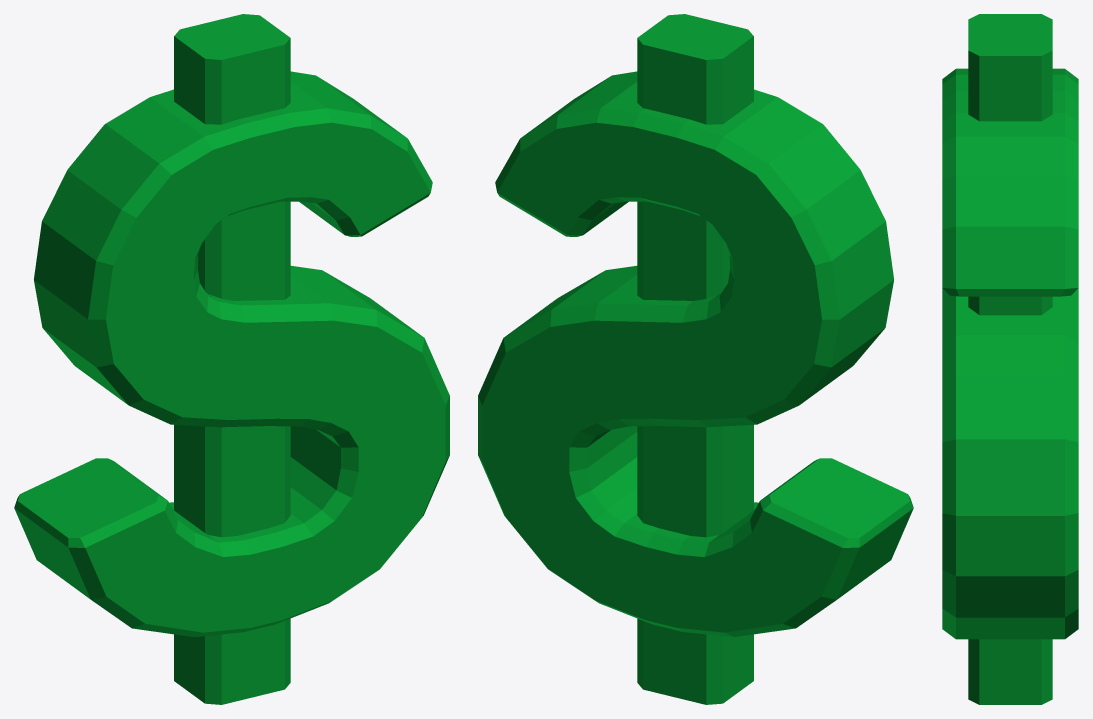
Rendered from dollarsign.fbx.
The picture shows the model from 3 angles, left to right: view 1: azimuth 30°, elevation 25°; view 2: azimuth 150°, elevation 25°; view 3: azimuth 270°, elevation 25°; orthographic projection.
Parts seen in each view (by area): view 1: Cube; view 2: Cube; view 3: Cube.
Boxes of the visible parts, left/top/right/bottom form: Cube: left=14, top=14, right=449, bottom=704; Cube: left=478, top=14, right=913, bottom=704; Cube: left=942, top=14, right=1078, bottom=704.
Size of the model in its own units: 210 by 340 by 64.85.
